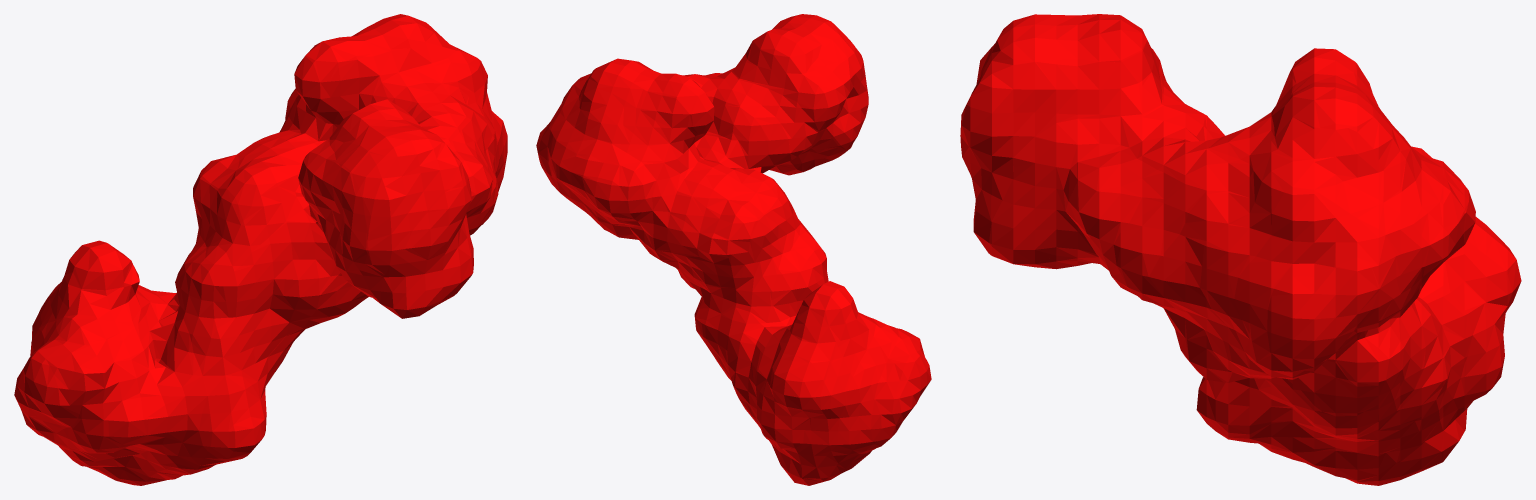
The model's file is fmt_coarse.dae.
3 views of the same model, side by side, from view 1: azimuth 30°, elevation 25°; view 2: azimuth 150°, elevation 25°; view 3: azimuth 270°, elevation 25° (orthographic). The views are drawn at different scales.
Parts seen in each view (by area): view 1: fmt; view 2: fmt; view 3: fmt.
Boxes of the visible parts, x1,y1,x2,y2 form: fmt: (14,14,507,485); fmt: (536,14,931,485); fmt: (960,14,1521,485).
Bounding box in the file's own units: 98.82 × 86.14 × 79.83.
